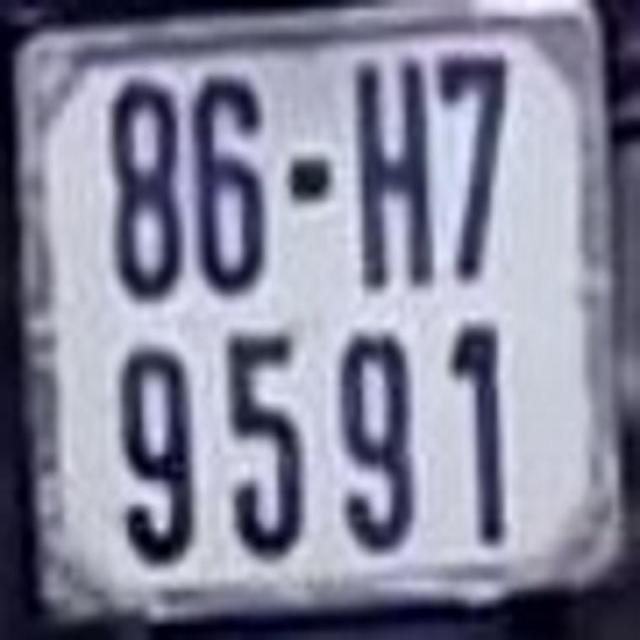1: (442, 308, 521, 550)
5: (222, 330, 309, 560)
6: (187, 61, 272, 298)
7: (437, 44, 512, 286)
8: (106, 74, 186, 303)
9: (336, 322, 414, 554), (115, 344, 196, 563)
H: (351, 51, 436, 290)
